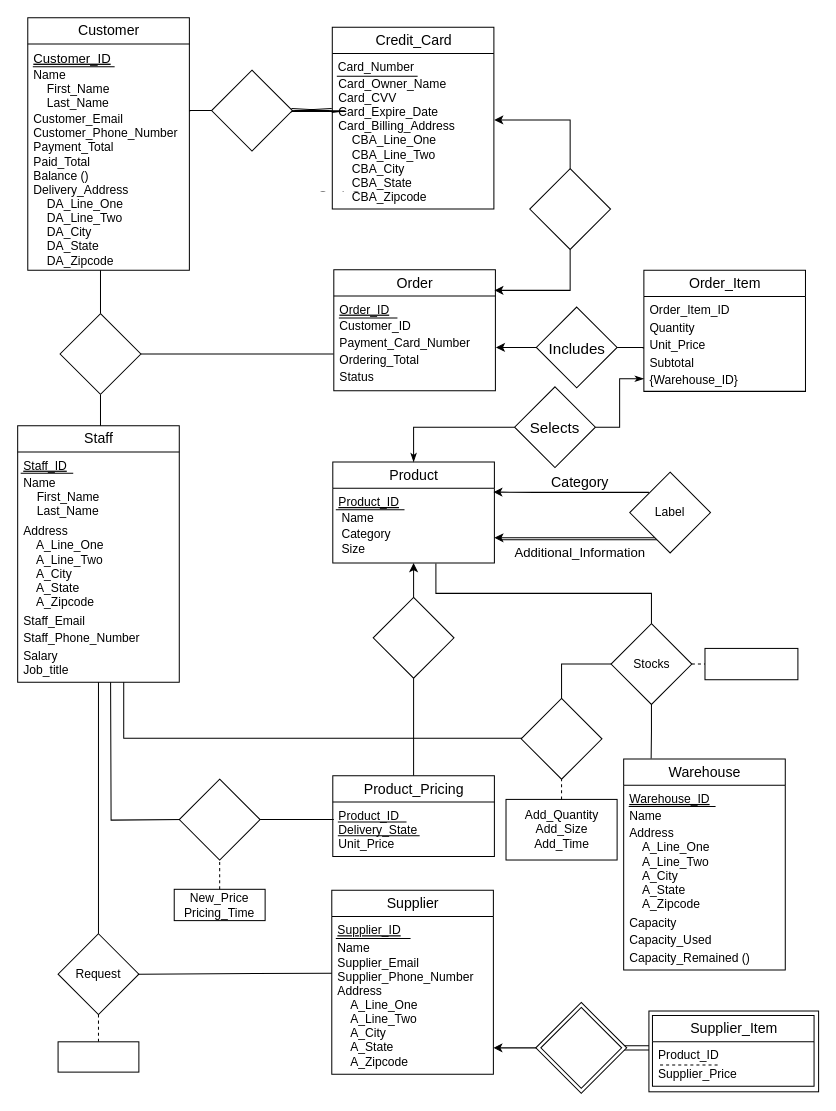
This 836x1111 diagram has some shape labels left out. Here are the shapes that lost their labels. From the top down, the centre of each, then its label:
At point 251,110: "Owns".
At point 570,208: "PaidWith".
At point 100,353: "Ordering".
At point 413,637: "GetPrice".
At point 751,663: "Item_Quantity Size_Total".
At point 561,738: "addStock".
At point 219,819: "Pricing".
At point 98,1056: "Details".
At point 581,1047: "Supplies".
